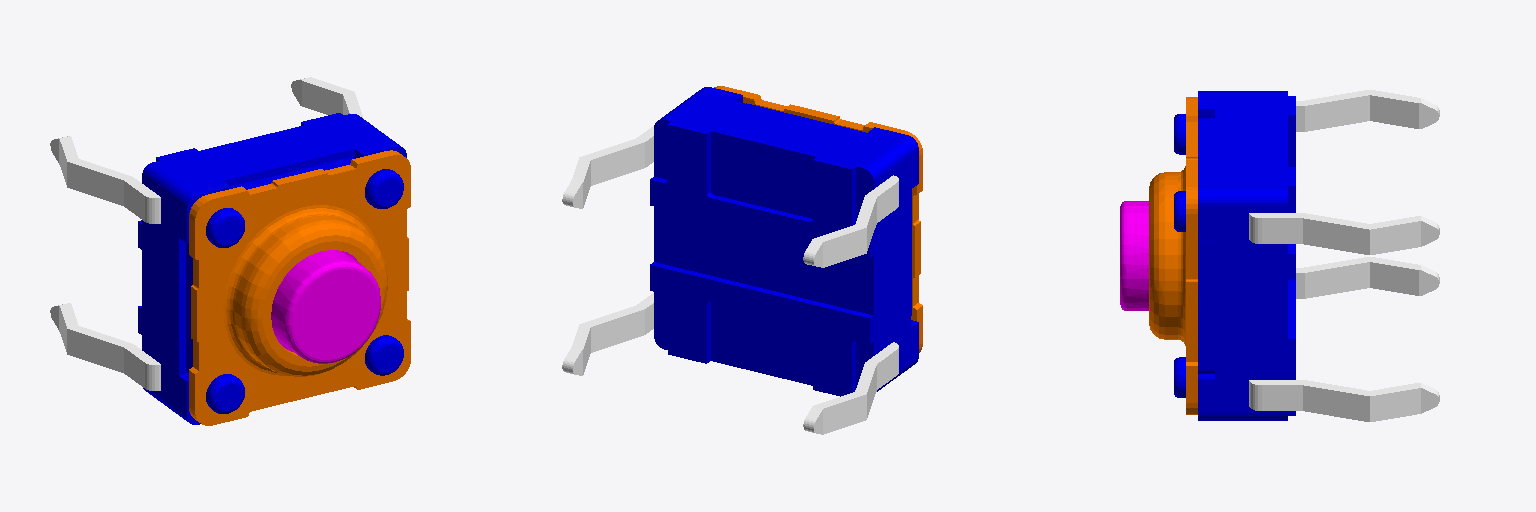
File: skhwal.obj
The picture shows the model from 3 angles: view 1: azimuth 30°, elevation 25°; view 2: azimuth 150°, elevation 25°; view 3: azimuth 270°, elevation 25°; orthographic projection.
Parts seen in each view (by area): view 1: skhwal_1; view 2: skhwal_1; view 3: skhwal_1.
Boxes of the visible parts, x1,y1,x2,y2 form: skhwal_1: [50, 77, 410, 425]; skhwal_1: [562, 86, 922, 434]; skhwal_1: [1120, 90, 1439, 421].
Size of the model in its own units: 8.1 by 6.2 by 7.8.